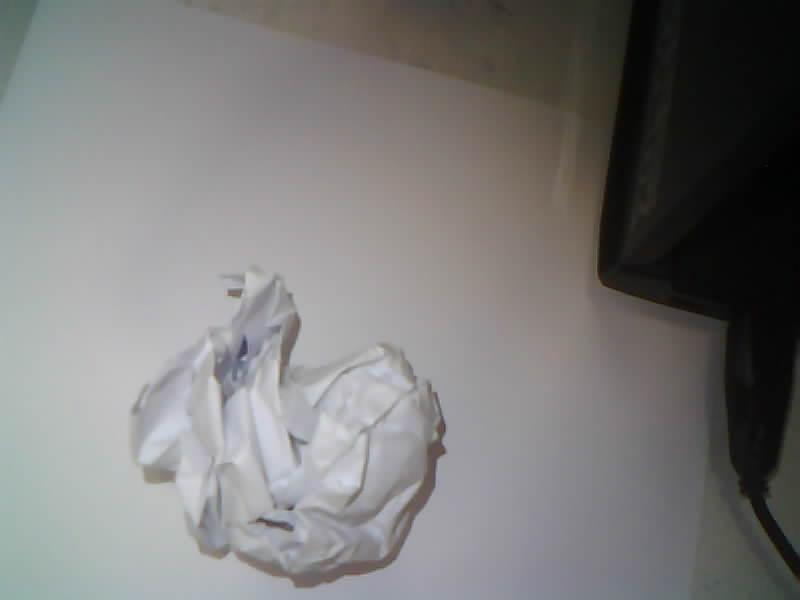biodegradable: (131, 270, 442, 581)
